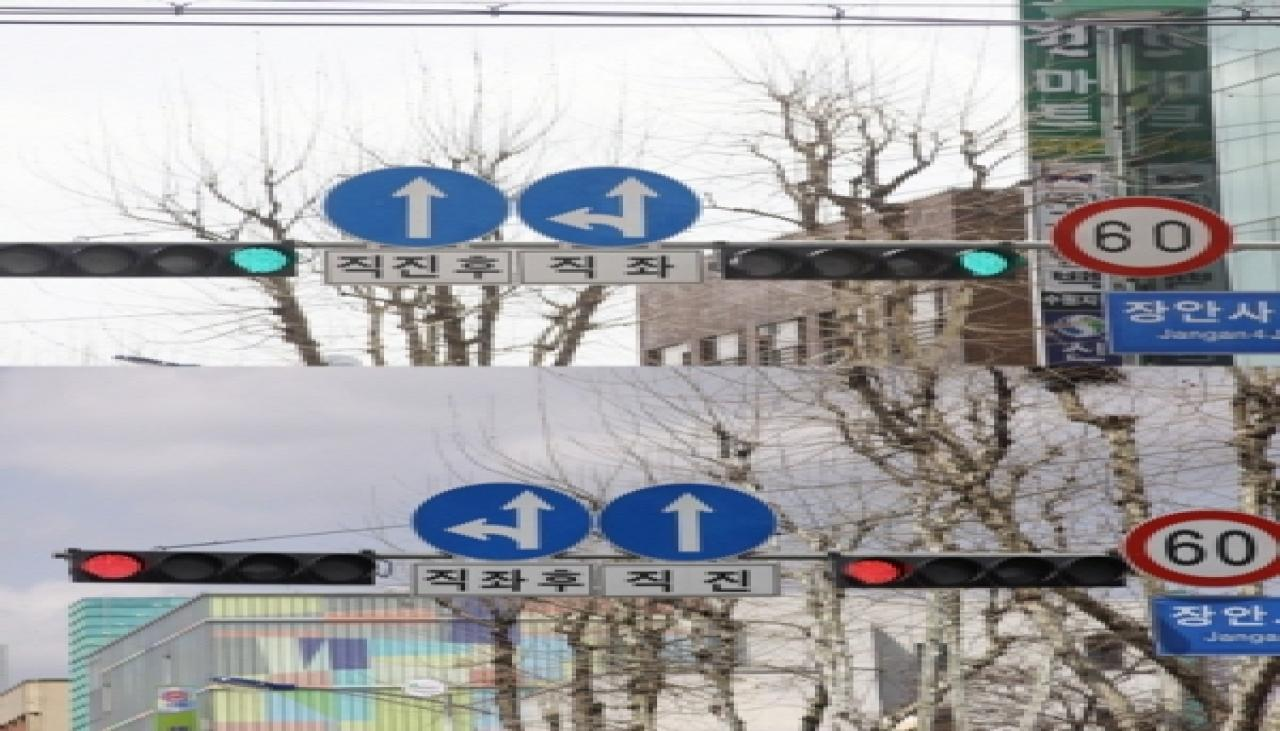Green Light: (950, 244, 1026, 281), (225, 244, 297, 275)
Red Light: (66, 545, 146, 585), (829, 555, 912, 588)
